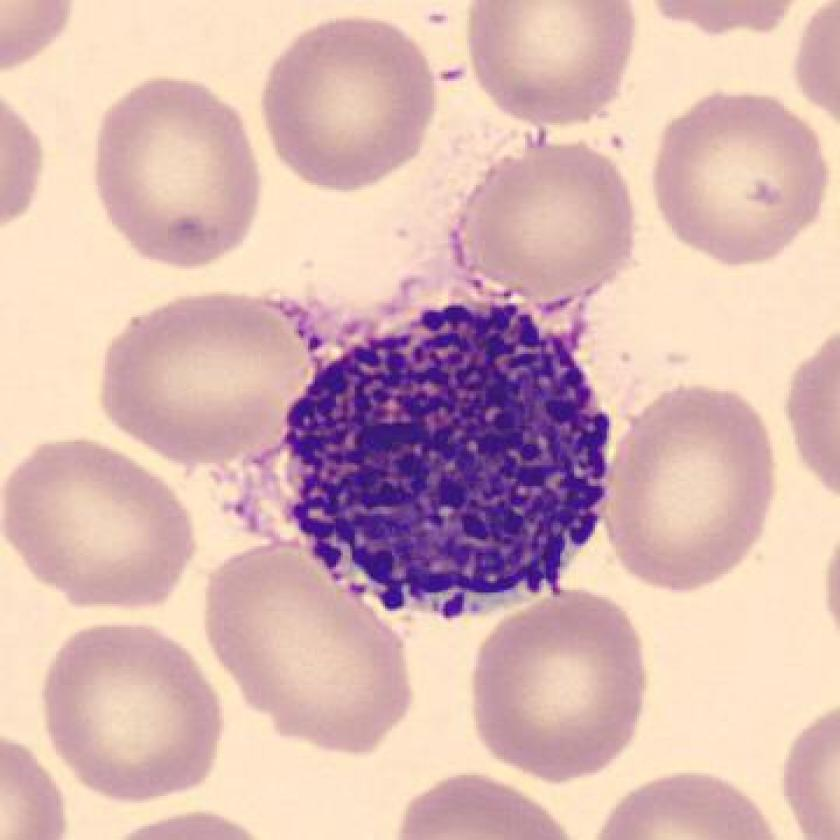basophil: (272, 300, 624, 628)
